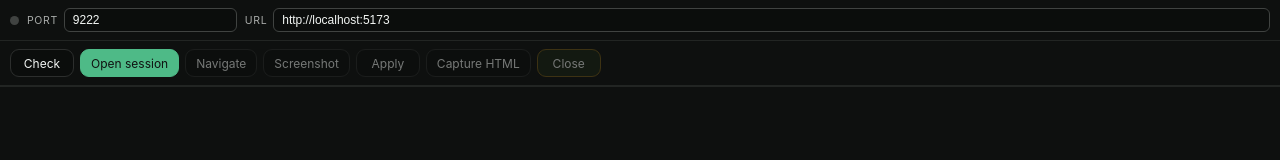
Scenario: BrowserWidget › POSTs navigate and reflects the SSE navigated event
This screenshot has width=1280, height=160.
Click the button "Open session". click: (130, 63)
box: [80, 49, 179, 77]
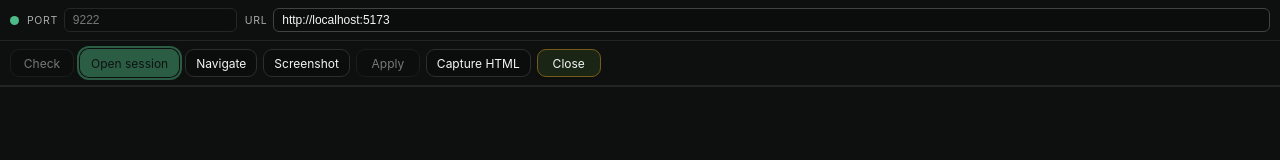
expect the button "Navigate" is enabled: met
Click the button "Navigate". click: (221, 63)
box: [185, 49, 257, 77]
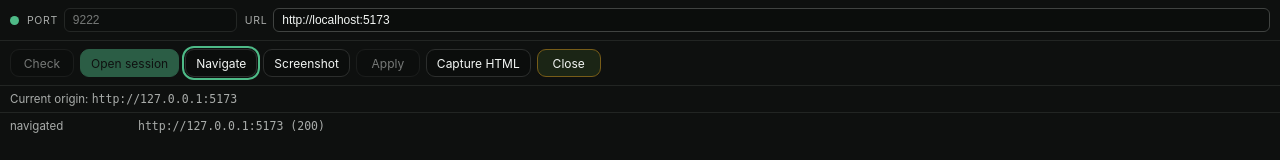
expect the text "http://127.0.0.1:5173" is shown: met, box [92, 92, 237, 106]
